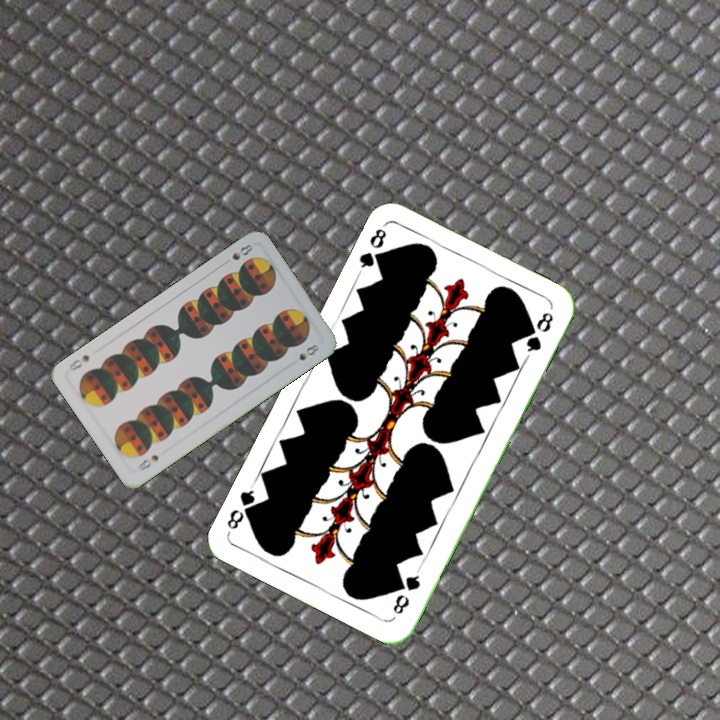G8: (354, 221, 389, 277), (388, 571, 424, 618)
S8: (227, 240, 256, 263), (135, 451, 161, 474)
